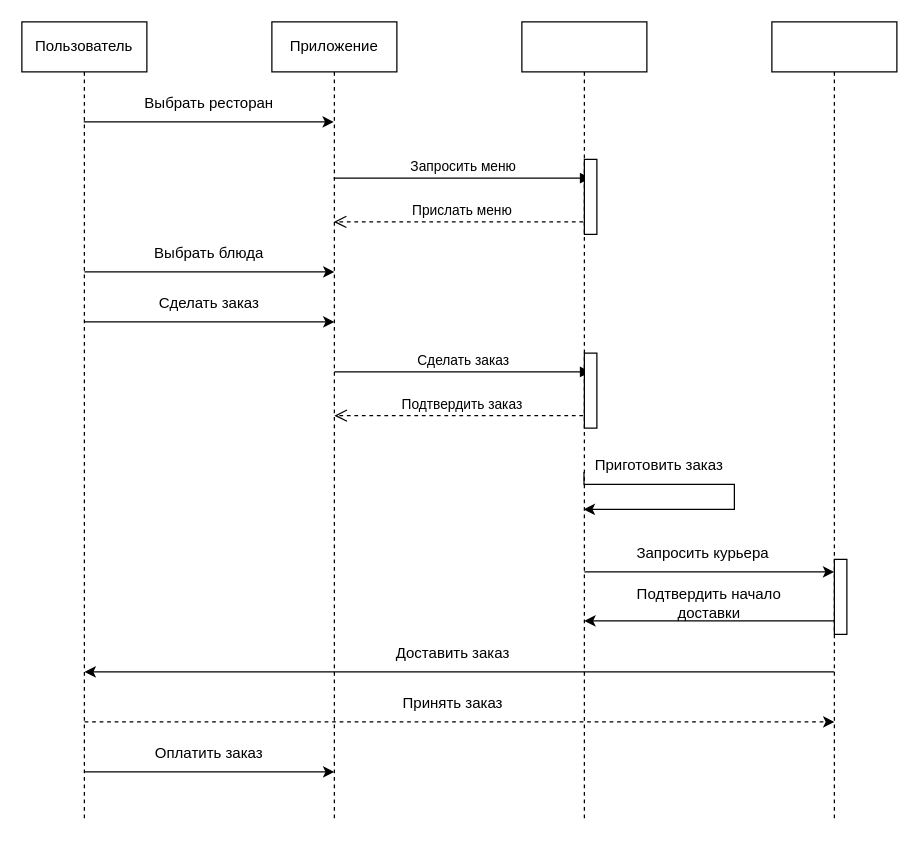
Image size: 919x844. Some labels were removed from this diagram. Here are the shapes that lost their labels. From the top down, the box of each, then its label:
(521, 21, 647, 822): Ресторан
(771, 21, 897, 822): Курьер
